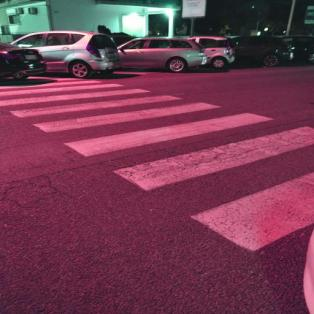Paso de Cebra: (60, 109, 314, 197)
